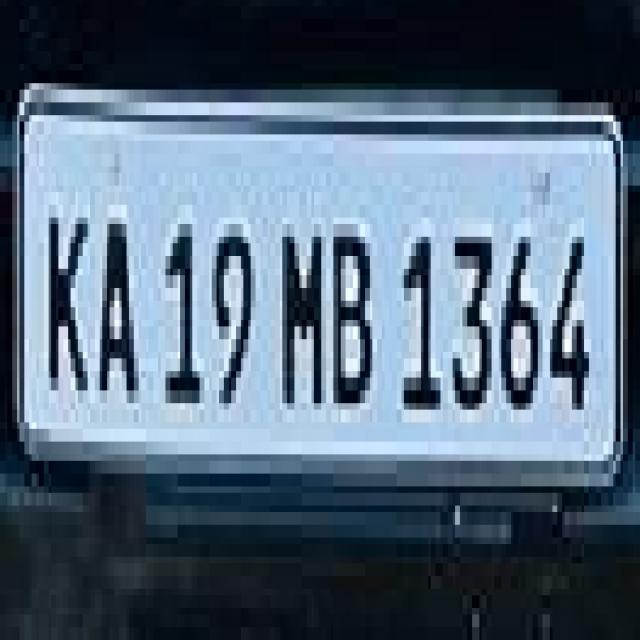1: (391, 217, 447, 416), (158, 208, 204, 422)
3: (450, 219, 496, 422)
4: (548, 219, 594, 428)
6: (498, 218, 547, 420)
9: (207, 216, 256, 417)
A: (98, 194, 142, 411)
B: (329, 218, 381, 418)
K: (38, 192, 90, 404)
M: (278, 216, 327, 417)
